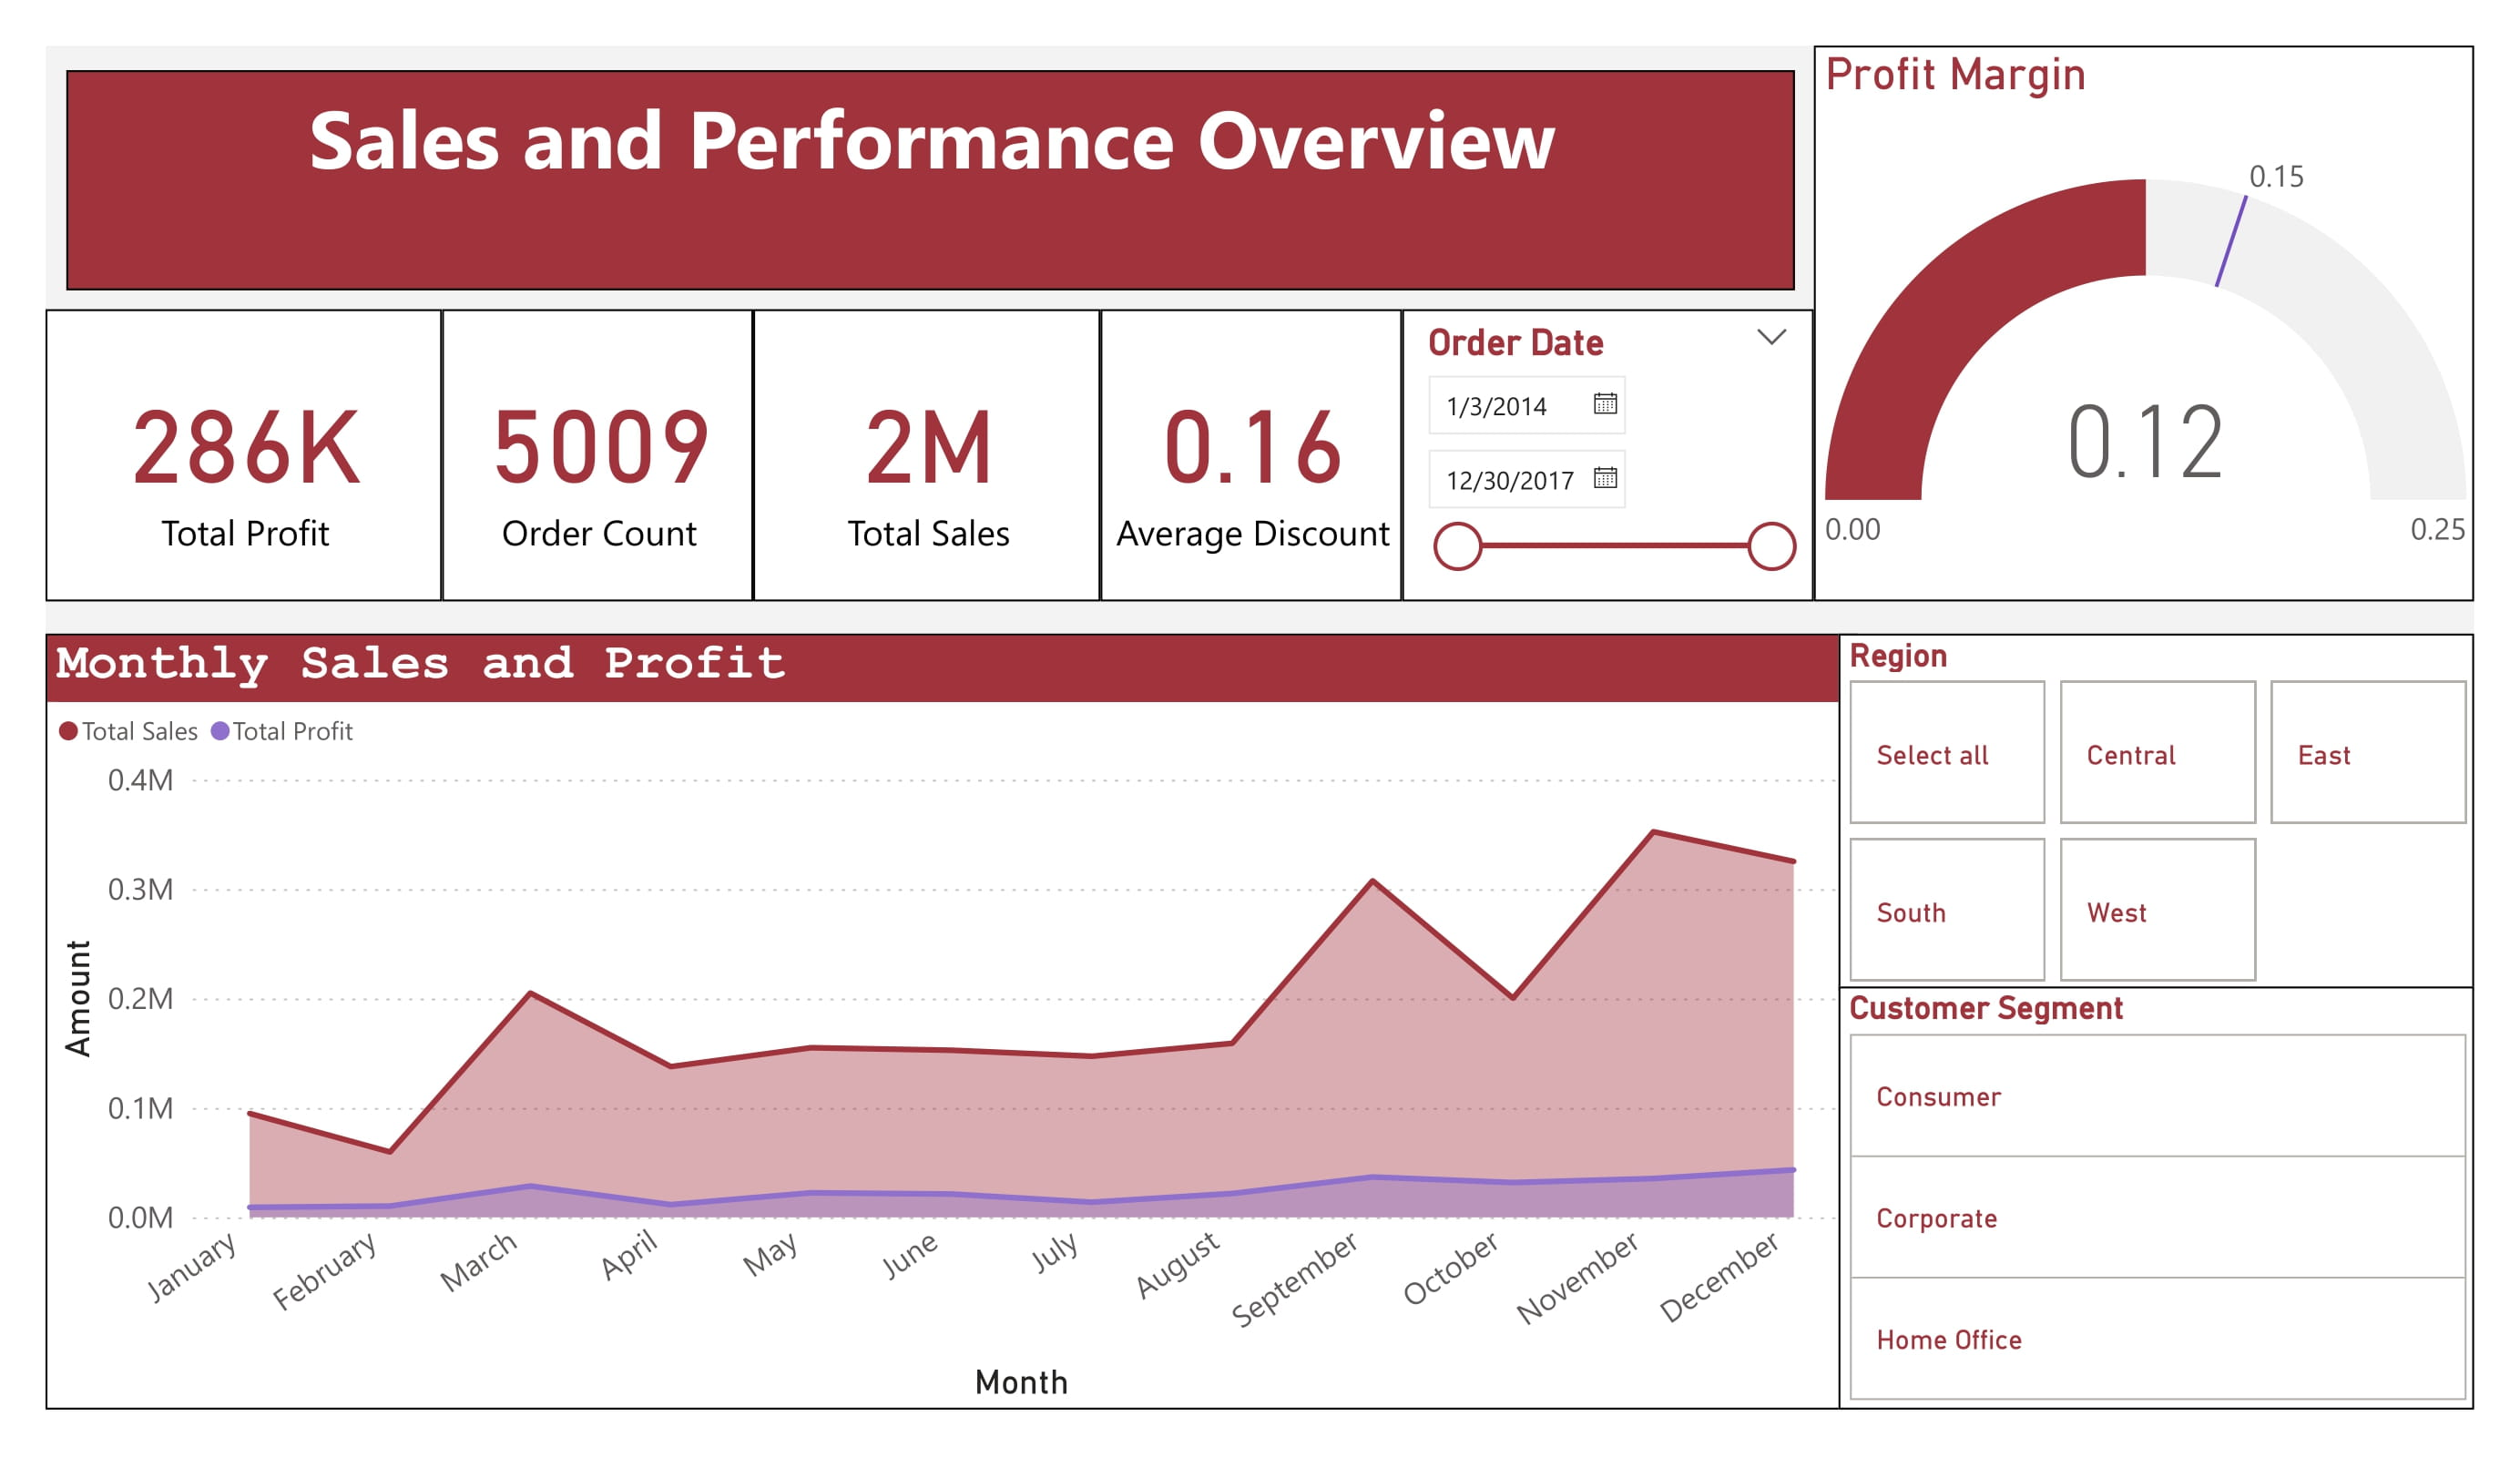

What the dashboard file says about the page in this screenshot:
{"tool":"powerbi","page":{"name":"Sales and Performance Overview","canvas":[1280,720],"ordinal":0},"visuals":[{"type":"card","fields":{"Values":["Orders.Order Count"]},"box":[208.8,138.7,164.5,154.5],"z":0},{"type":"card","fields":{"Values":["Orders.Total Sales"]},"box":[373.3,138.7,183.1,154.5],"z":1000},{"type":"card","fields":{"Values":["Orders.Total Profit"]},"box":[0,138.7,208.8,154.5],"z":2000},{"type":"card","fields":{"Values":["Orders.Average Discount"]},"box":[556.3,138.7,158.7,154.5],"z":3000},{"type":"lineChart","title":"Monthly Sales and Profit","fields":{"Y":["Orders.Total Sales","Orders.Total Profit"],"Category":["Orders.Order Date.Variation.Date Hierarchy.Month"]},"box":[0,310.3,955.4,409],"z":4000},{"type":"gauge","fields":{"Y":["Orders.Profit Margin"]},"box":[932.5,0,347.5,293.2],"z":5000},{"type":"slicer","fields":{"Values":["Orders.Order Date"]},"box":[715.1,138.7,217.4,154.5],"z":6000},{"type":"advancedSlicerVisual","fields":{"Values":["Locations.Region"]},"box":[945.3,310.3,334.7,187.4],"z":7000},{"type":"advancedSlicerVisual","fields":{"Values":["Customers.Customer Segment"]},"box":[945.3,496.3,334.7,223.1],"z":8000},{"type":"textbox","box":[11.4,12.9,911,115.8],"z":8002}]}

Visuals, with their boxes in screenshot pixels (x1, y1, x2, y2):
card - Orders.Order Count: 442, 309, 754, 602
card - Orders.Total Sales: 754, 309, 1101, 602
card - Orders.Total Profit: 46, 309, 442, 602
card - Orders.Average Discount: 1101, 309, 1403, 602
"Monthly Sales and Profit" lineChart: 46, 634, 1859, 1411
gauge - Orders.Profit Margin: 1815, 46, 2474, 602
slicer - Orders.Order Date: 1403, 309, 1815, 602
advancedSlicerVisual - Locations.Region: 1840, 634, 2474, 990
advancedSlicerVisual - Customers.Customer Segment: 1840, 987, 2474, 1411
textbox: 67, 70, 1796, 290
